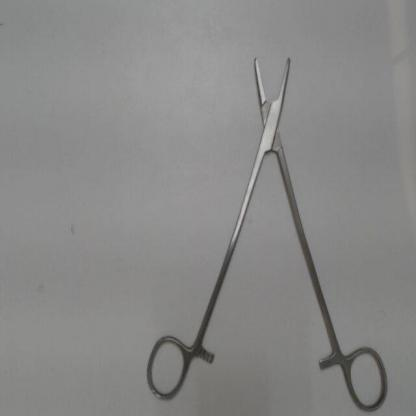8 Mayo Needle Holder: (140, 37, 398, 414)
